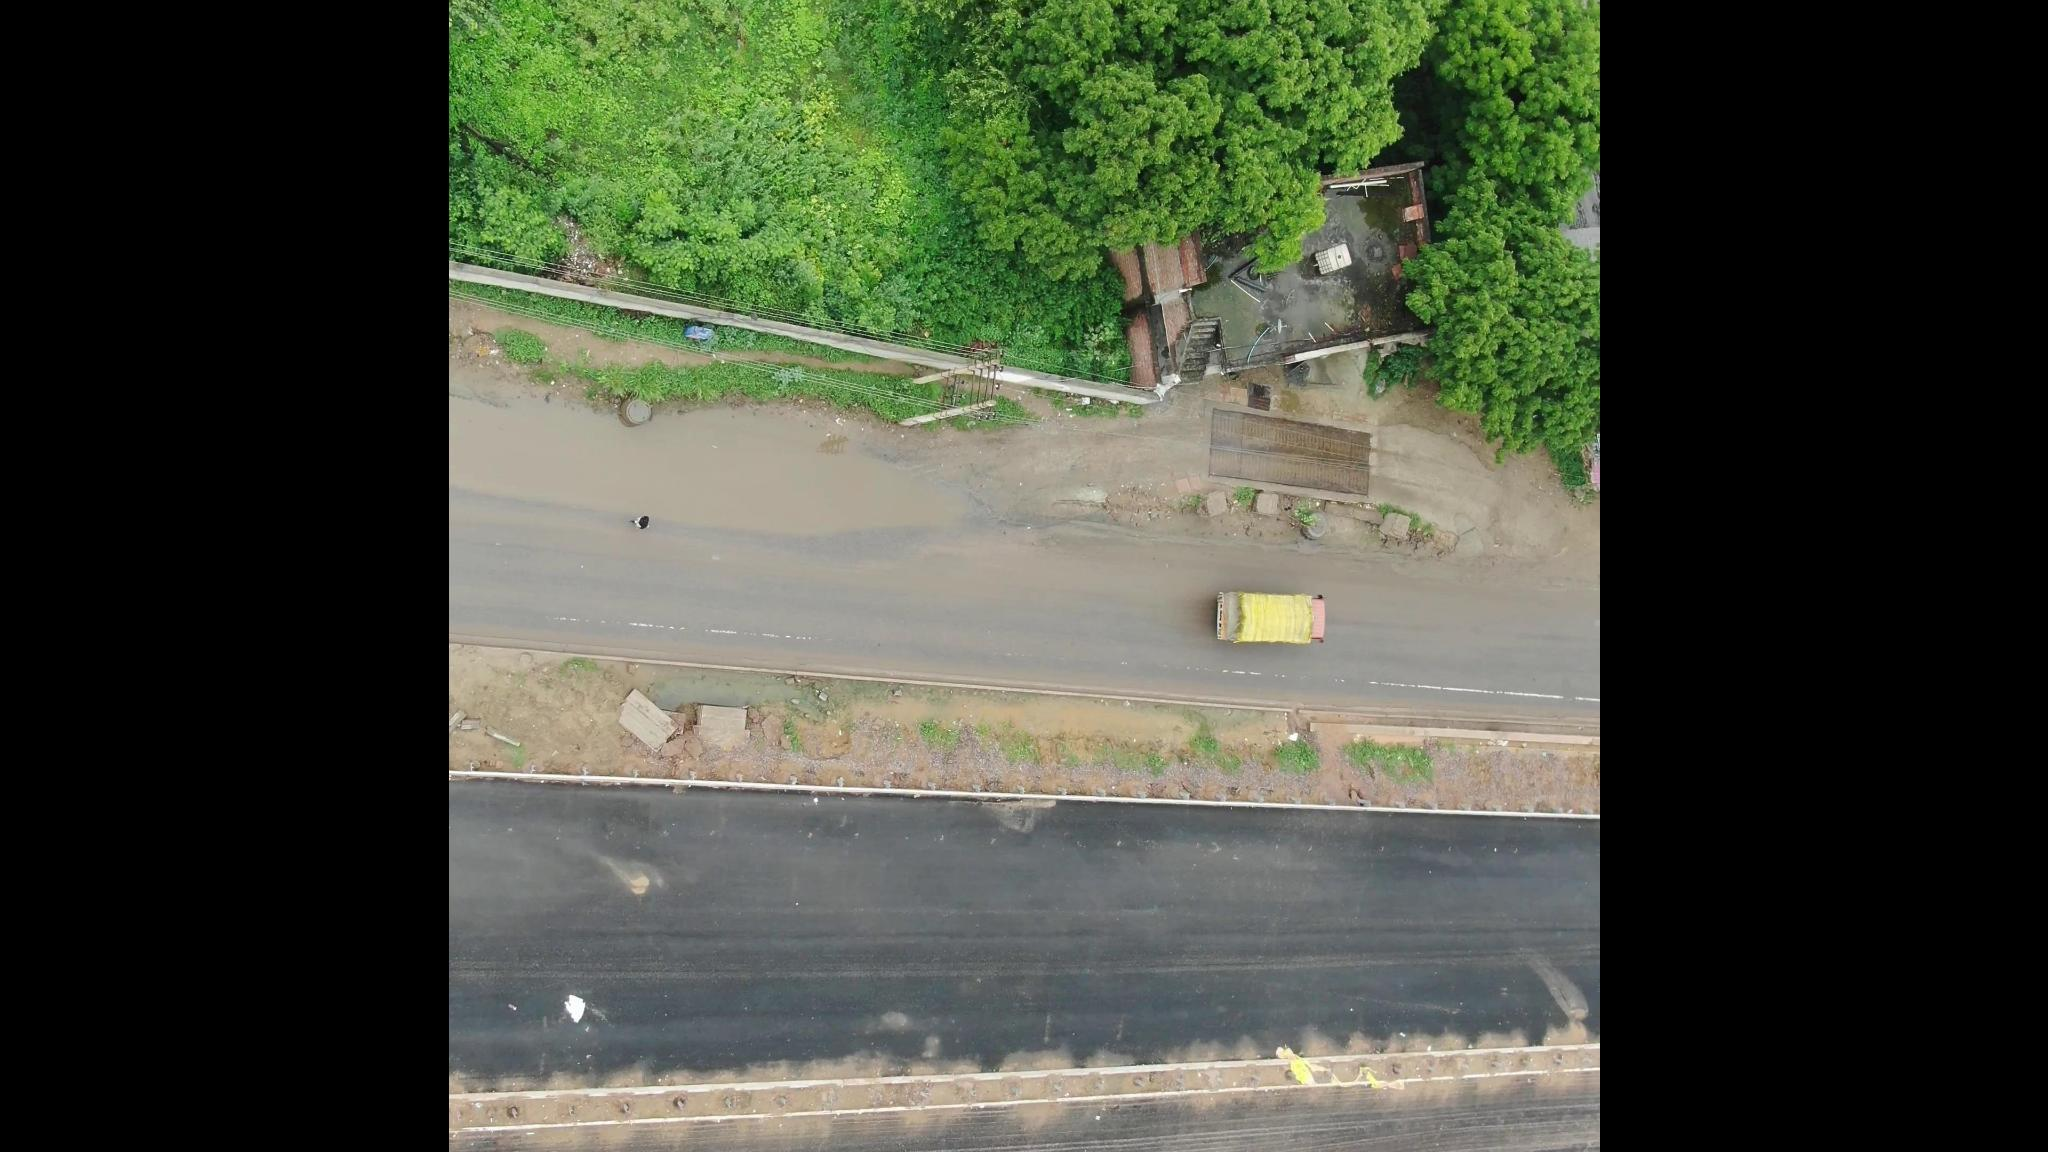Waterlogging: (489, 398, 858, 506)
